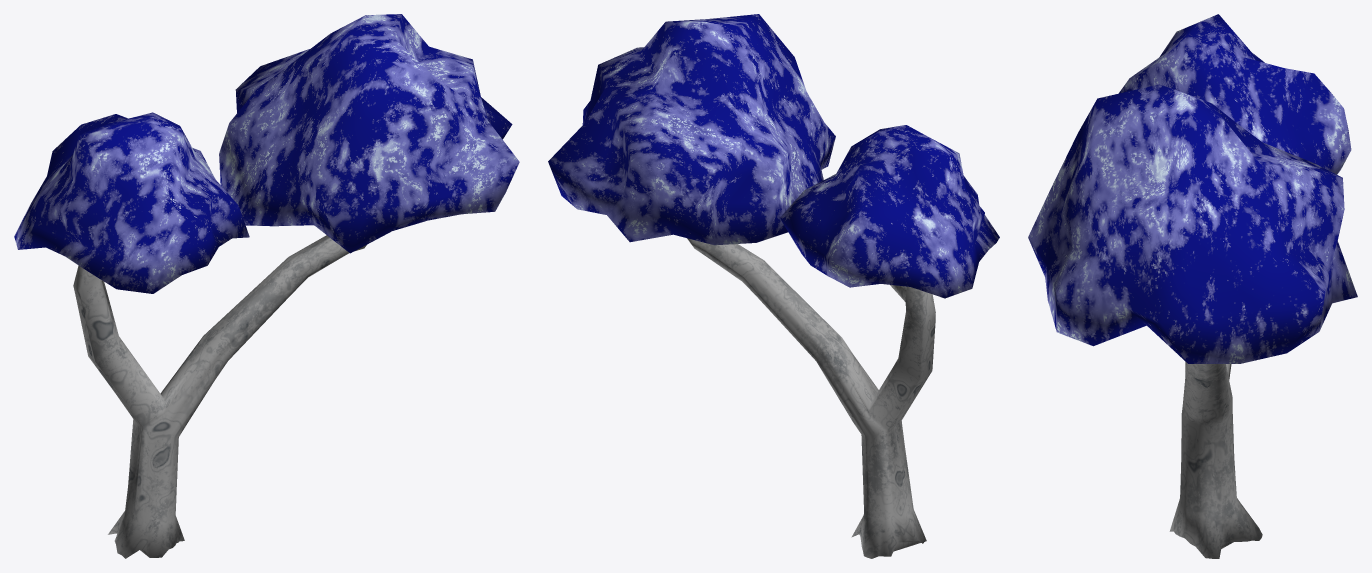
Rendered from Mushroom3.fbx.
3 views of the same model, side by side, from view 1: azimuth 30°, elevation 25°; view 2: azimuth 150°, elevation 25°; view 3: azimuth 270°, elevation 25° (orthographic). The views are drawn at different scales.
Visible parts, largest first — view 1: Mushroom3; view 2: Mushroom3; view 3: Mushroom3.
Boxes of the visible parts, <box> form: Mushroom3: <box>14,14,519,558</box>; Mushroom3: <box>548,14,999,558</box>; Mushroom3: <box>1028,14,1357,558</box>.
Size of the model in its own units: 1012 by 1048 by 559.
